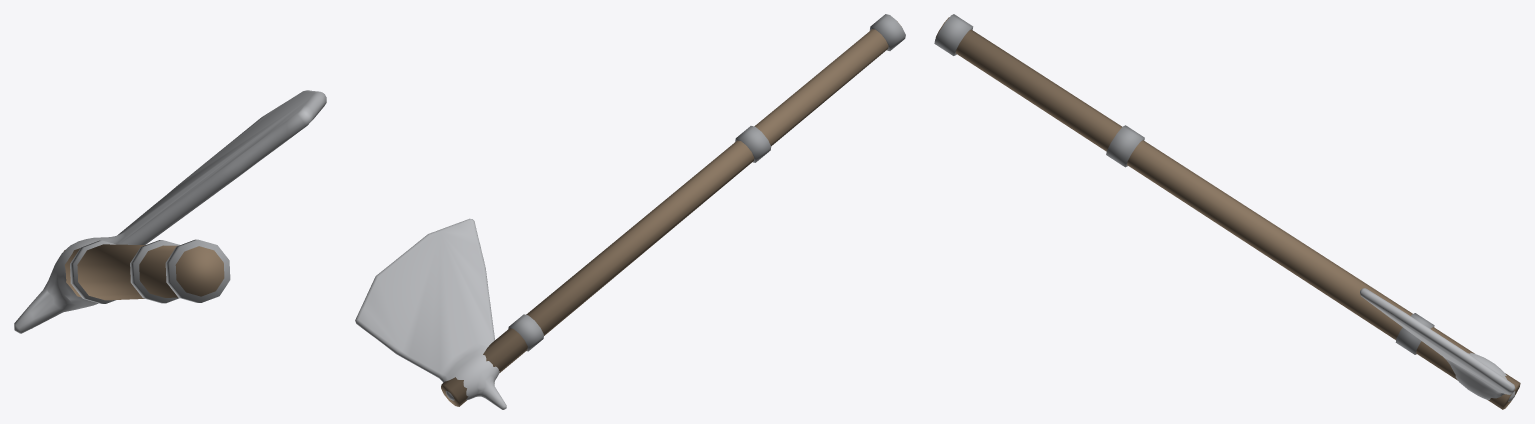
The model's file is AxeStowed.fbx.
3 views of the same model, side by side, from view 1: azimuth 30°, elevation 25°; view 2: azimuth 150°, elevation 25°; view 3: azimuth 270°, elevation 25° (orthographic). The views are drawn at different scales.
Visible parts, largest first — view 1: AxeStowed; view 2: AxeStowed; view 3: AxeStowed.
Boxes of the visible parts, x1=… form: AxeStowed: x1=14, y1=90, x2=326, y2=333; AxeStowed: x1=355, y1=14, x2=905, y2=409; AxeStowed: x1=934, y1=14, x2=1520, y2=409.
Bounding box in the file's own units: 30.28 × 24.71 × 45.31.
